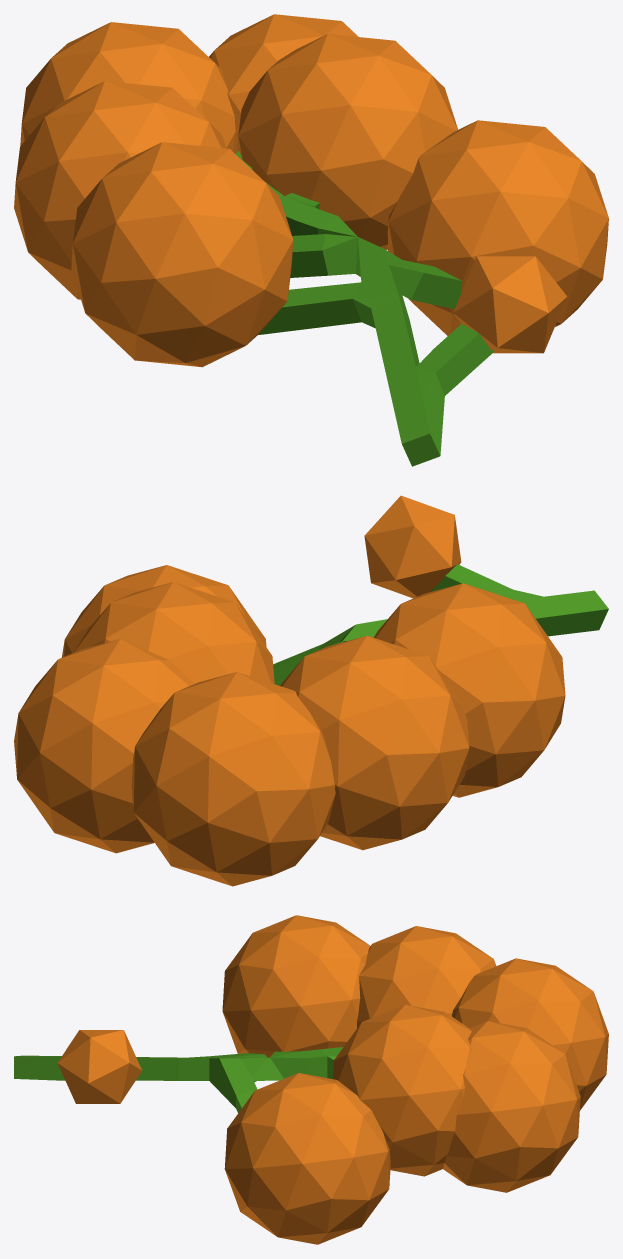
Rendered from tree1.fbx.
3 views of the same model, one above another, from view 1: azimuth 30°, elevation 25°; view 2: azimuth 150°, elevation 25°; view 3: azimuth 270°, elevation 25° (orthographic). The views are drawn at different scales.
Parts seen in each view (by area): view 1: Object; view 2: Object; view 3: Object.
Boxes of the visible parts, x1,y1,x2,y2 form: Object: (14,14,608,466); Object: (14,495,608,886); Object: (14,915,608,1244).
Size of the model in its own units: 361 by 173 by 488.
